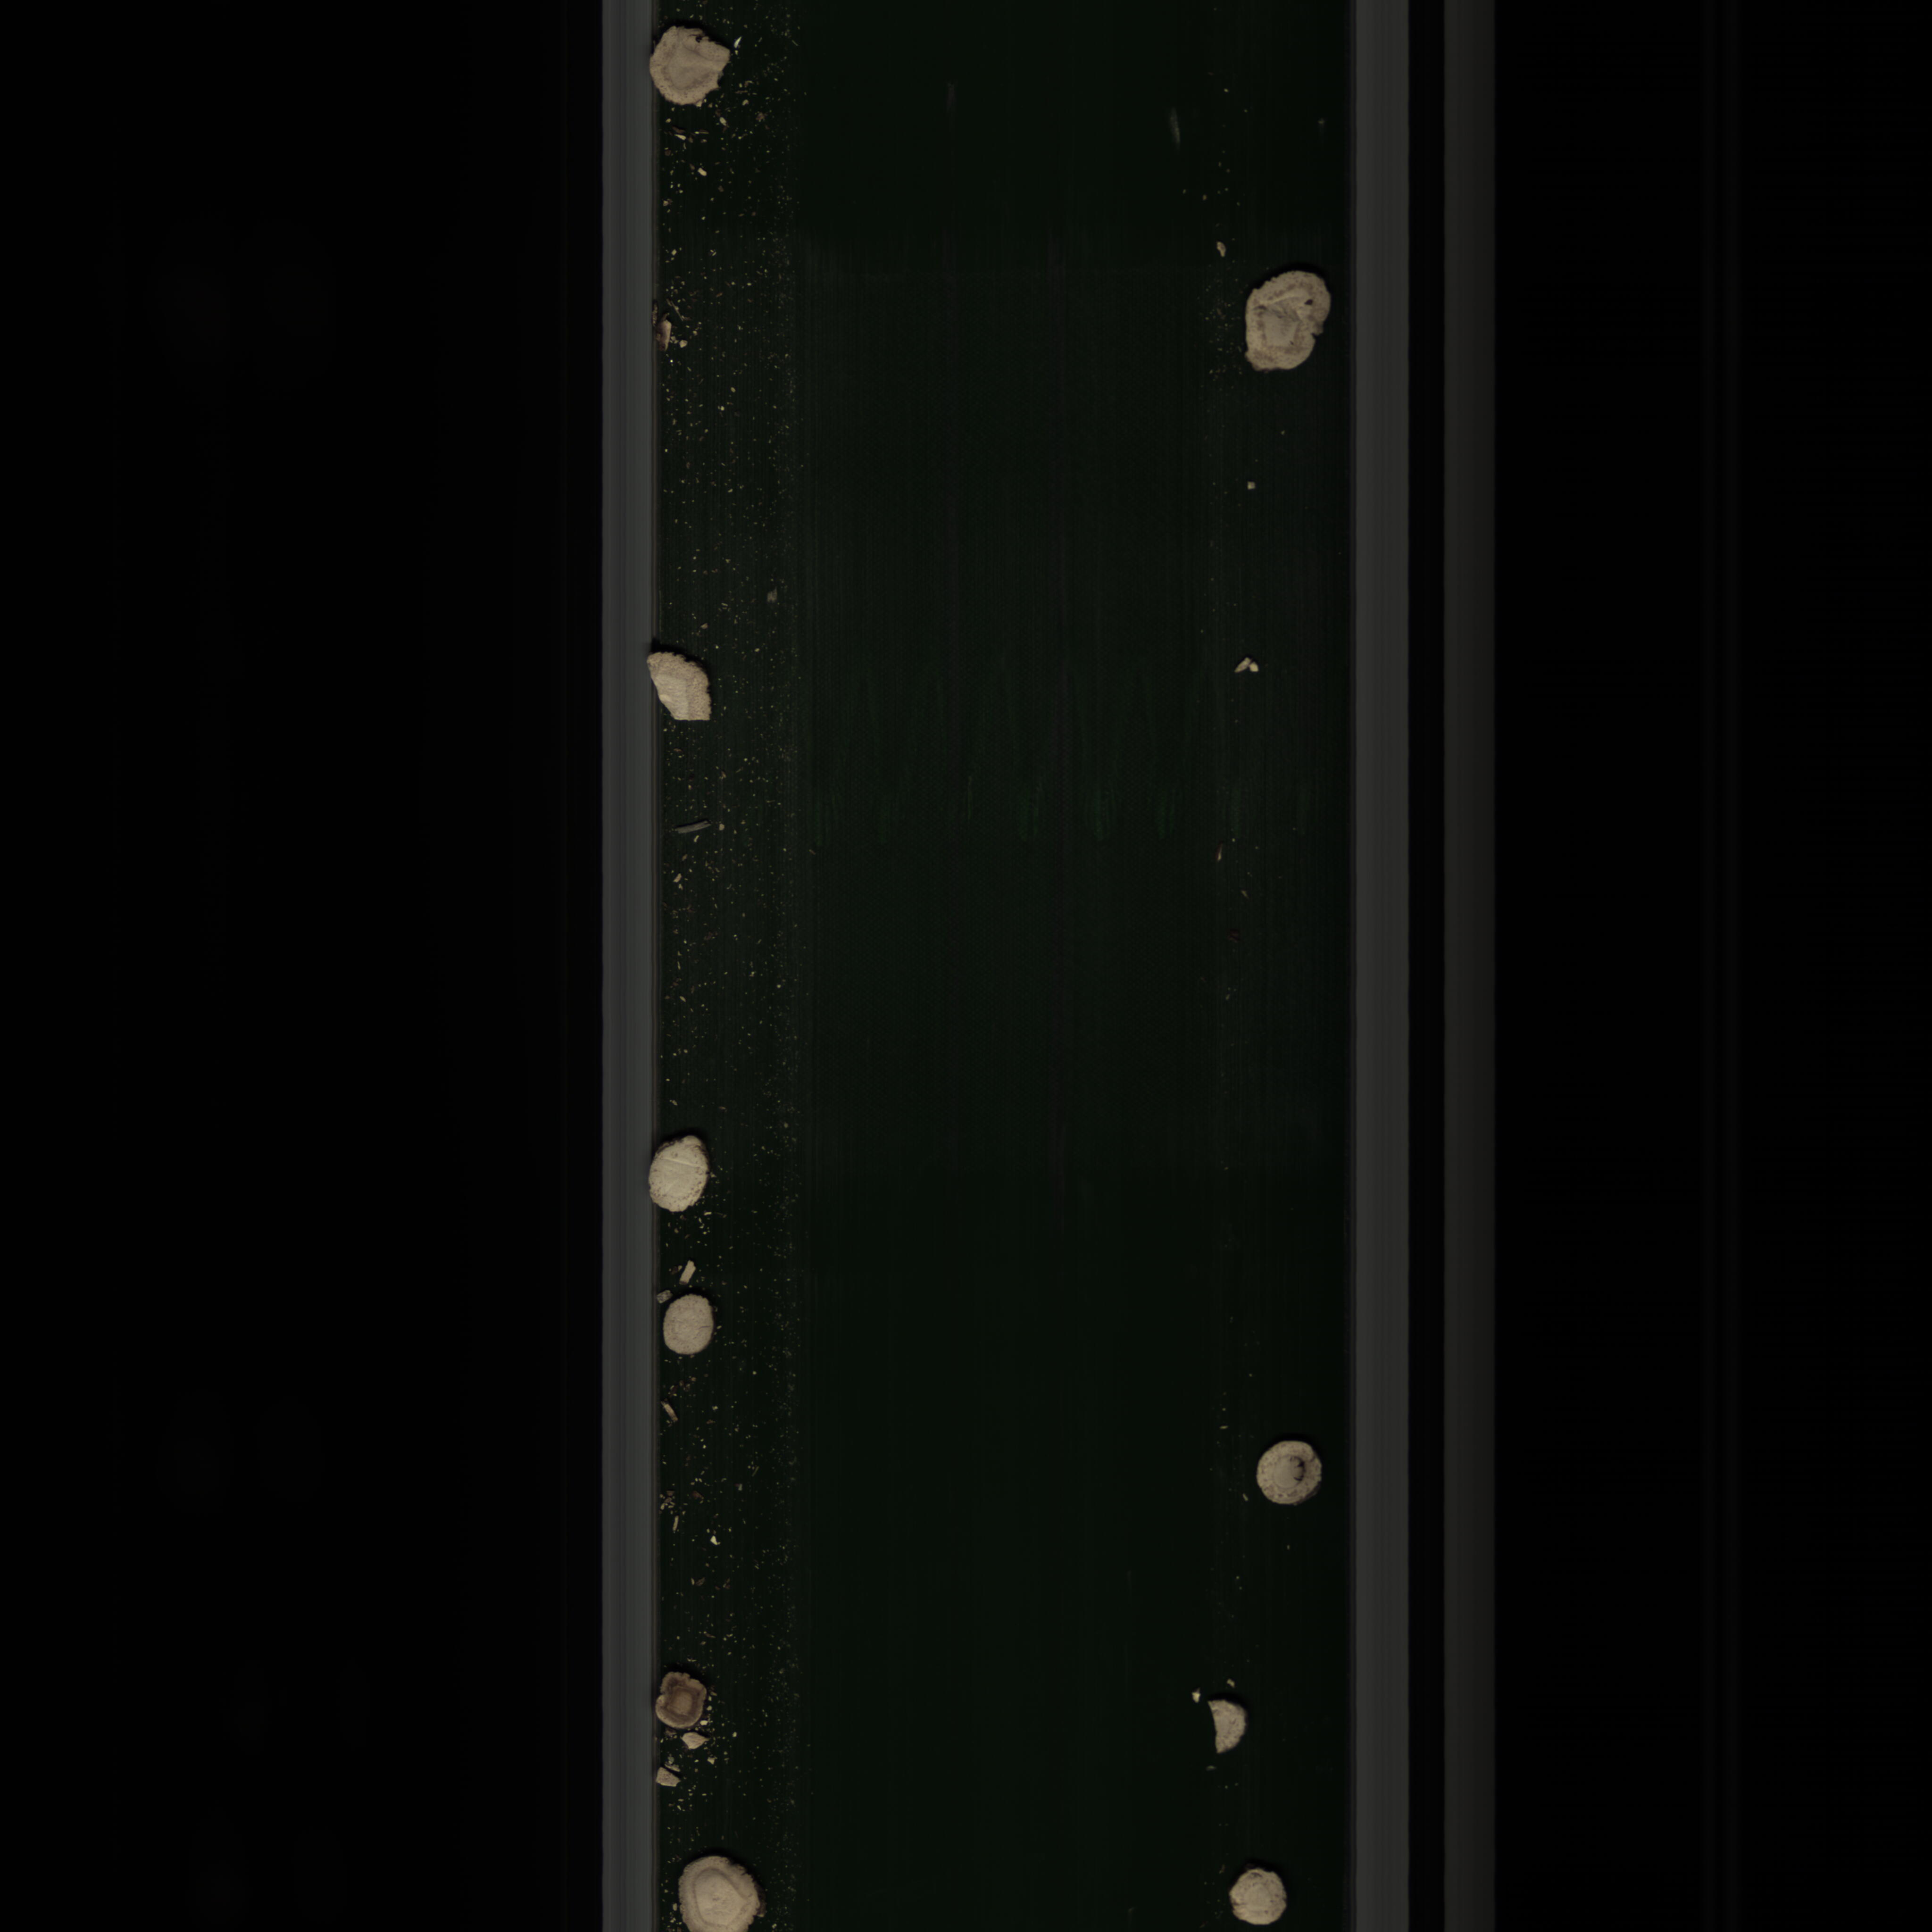debris: (639, 644, 717, 729), (1191, 1691, 1253, 1764)
distortion: (648, 21, 743, 113)
hole: (1242, 257, 1325, 380), (1247, 1431, 1330, 1513)
moldy: (653, 1663, 720, 1732)
